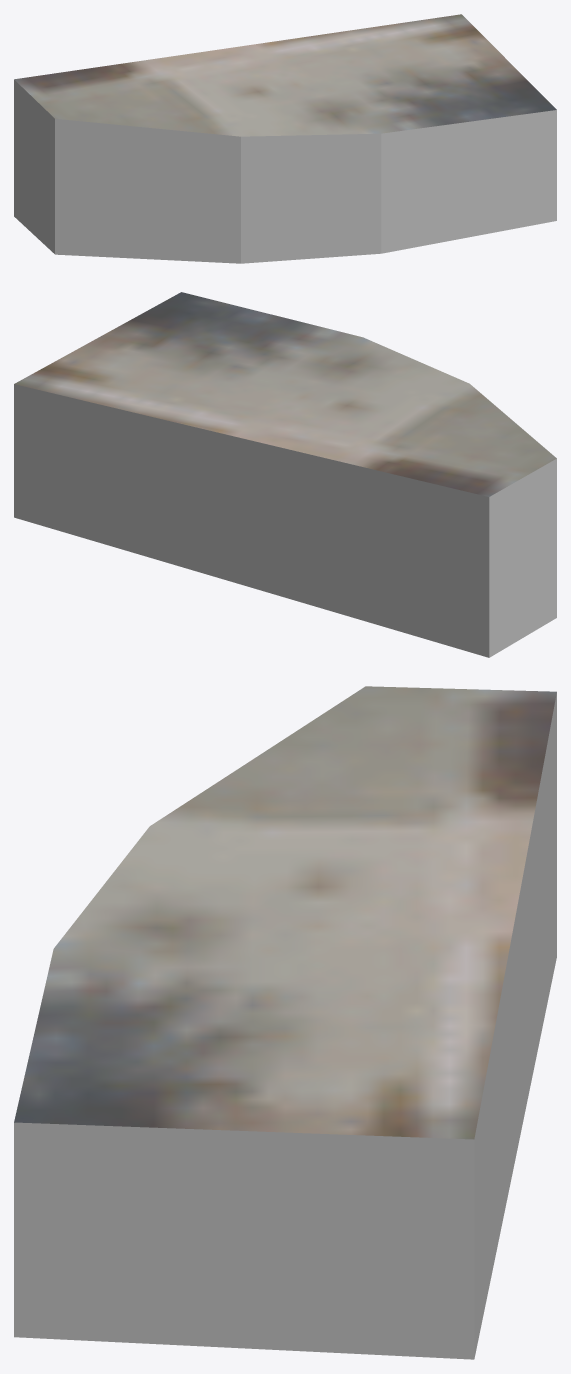
The model's file is DEBW_0010007Tx63.gltf.
3 renders of one model, top to bottom at view 1: azimuth 30°, elevation 25°; view 2: azimuth 150°, elevation 25°; view 3: azimuth 270°, elevation 25°, orthographic. The views are drawn at different scales.
Parts seen in each view (by area): view 1: Z_UP; view 2: Z_UP; view 3: Z_UP.
Part boxes in pixels (x1,y1,x2,y2): Z_UP: (14,14,556,263); Z_UP: (14,292,556,657); Z_UP: (14,686,556,1359).
Bounding box in the file's own units: 11.52 × 3.47 × 6.44.
Materials: 2 (1 with a texture image).
